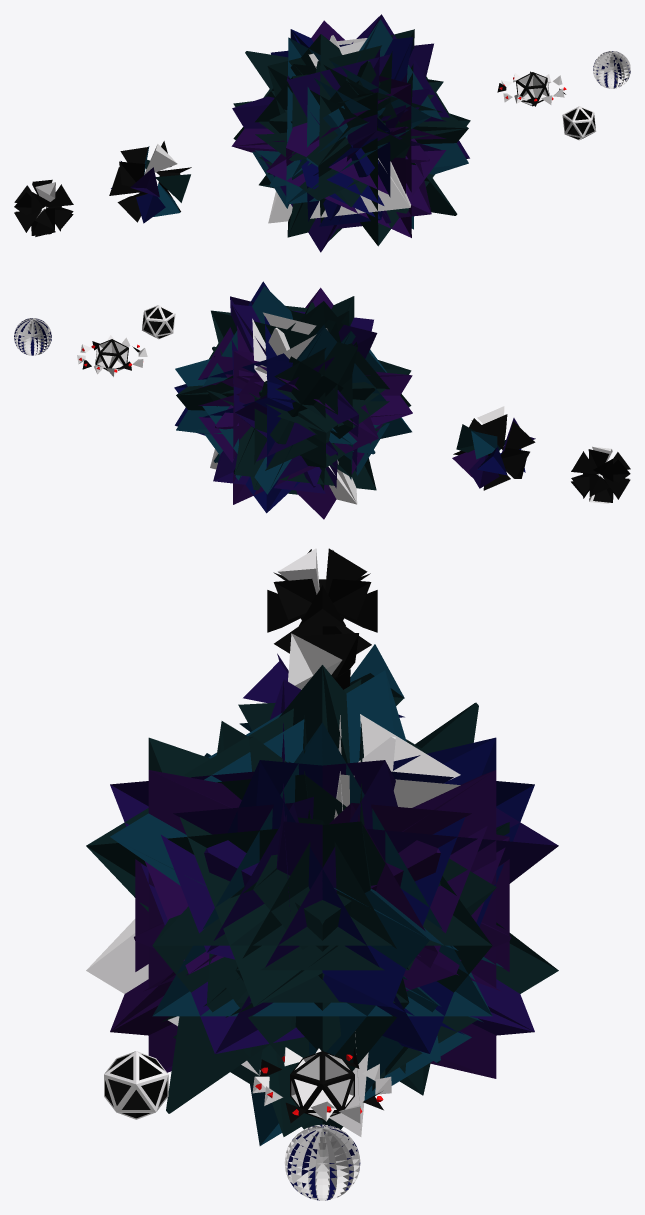
Rendered from enemys.fbx.
3 views of the same model, one above another, from view 1: azimuth 30°, elevation 25°; view 2: azimuth 150°, elevation 25°; view 3: azimuth 270°, elevation 25° (orthographic). The views are drawn at different scales.
Visible parts, largest first — view 1: Icosphere.001, Icosphere.004, Icosphere.005, Sphere, Icosphere.007, Icosphere.002, Icosphere.006; view 2: Icosphere.001, Icosphere.004, Icosphere.005, Sphere, Icosphere.007, Icosphere.002, Icosphere.006; view 3: Icosphere.001, Icosphere.005, Icosphere.004, Sphere, Icosphere.007, Icosphere.002, Icosphere.006.
Boxes of the visible parts, x1,y1,x2,y2 form: Icosphere.001: (231, 14, 470, 252); Icosphere.004: (109, 141, 191, 223); Icosphere.005: (14, 179, 73, 236); Sphere: (593, 51, 630, 88); Icosphere.007: (562, 106, 596, 140); Icosphere.002: (516, 72, 549, 106); Icosphere.006: (497, 71, 566, 106); Icosphere.001: (174, 281, 412, 519); Icosphere.004: (452, 406, 535, 490); Icosphere.005: (571, 446, 630, 503); Sphere: (14, 318, 51, 355); Icosphere.007: (142, 305, 175, 339); Icosphere.002: (95, 339, 128, 371); Icosphere.006: (77, 335, 147, 377); Icosphere.001: (86, 665, 558, 1145); Icosphere.005: (267, 548, 377, 654); Icosphere.004: (238, 633, 404, 731); Sphere: (284, 1124, 360, 1200); Icosphere.007: (104, 1051, 168, 1119); Icosphere.002: (290, 1051, 354, 1119); Icosphere.006: (252, 1047, 391, 1123).
Bounding box in the file's own units: 1847 × 623 × 622.
